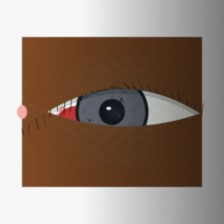hemorrhage_spot: (50, 95, 108, 142)
